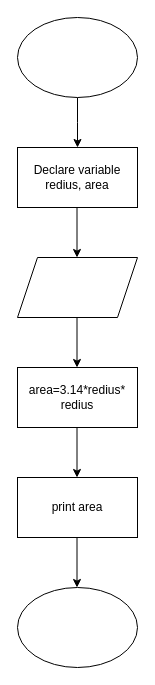
The diagram is 155 pixels wide and 685 high, and some of its shapes have lost their labels. The shapes that lost their labels are listed below. From the top down, each one's centre as x and y in pixels, then its label:
At (77,57): "Start".
At (77,287): "get input for redius".
